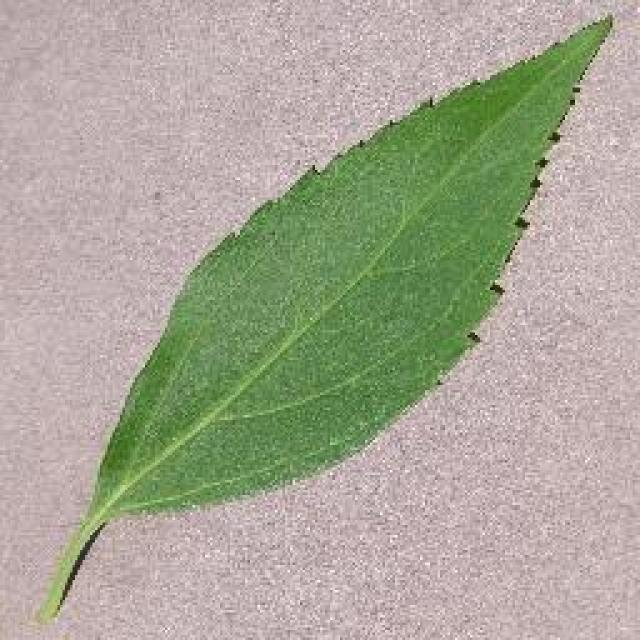Cherry___healthy: (15, 10, 623, 635)
